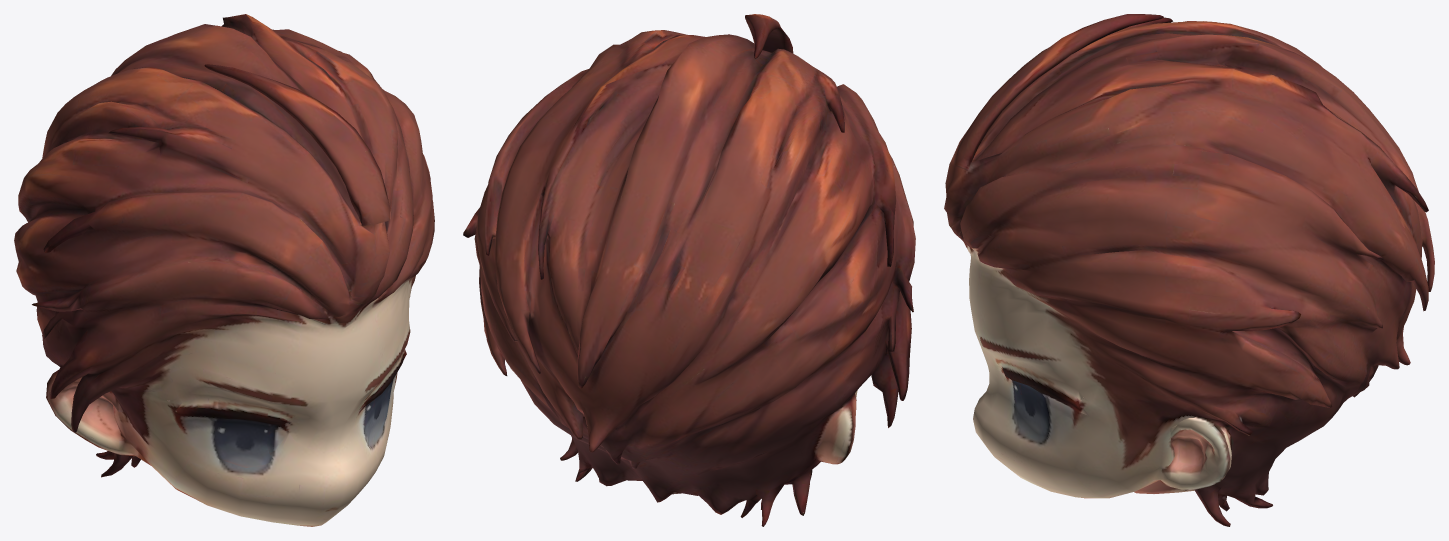
3 renders of one model, left to right at view 1: azimuth 30°, elevation 25°; view 2: azimuth 150°, elevation 25°; view 3: azimuth 270°, elevation 25°, orthographic. The views are drawn at different scales.
Parts seen in each view (by area): view 1: tripo_node_3cfd268d-a3bc-4b95-bccf-4715940cb884; view 2: tripo_node_3cfd268d-a3bc-4b95-bccf-4715940cb884; view 3: tripo_node_3cfd268d-a3bc-4b95-bccf-4715940cb884.
Part boxes in pixels (x1,y1,x2,y2): tripo_node_3cfd268d-a3bc-4b95-bccf-4715940cb884: [14, 14, 434, 526]; tripo_node_3cfd268d-a3bc-4b95-bccf-4715940cb884: [463, 14, 915, 526]; tripo_node_3cfd268d-a3bc-4b95-bccf-4715940cb884: [944, 14, 1434, 526].
Size of the model in its own units: 0.4002 by 0.4154 by 0.4145.
1 material, 1 textured.
